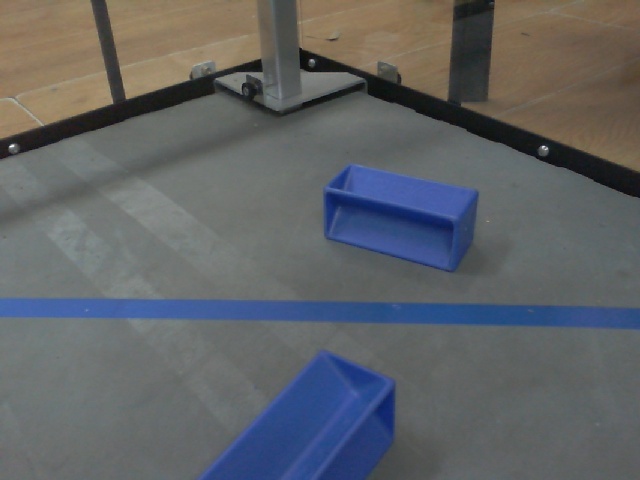BlueSample: (185, 344, 401, 480), (319, 160, 482, 280)
